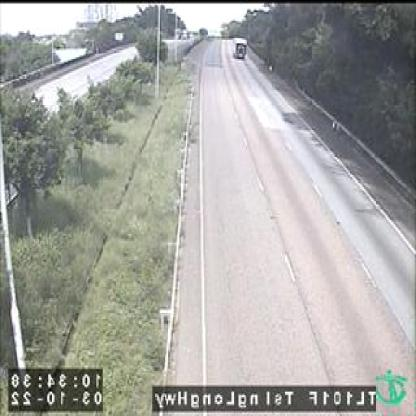Truck: (234, 36, 248, 58)
